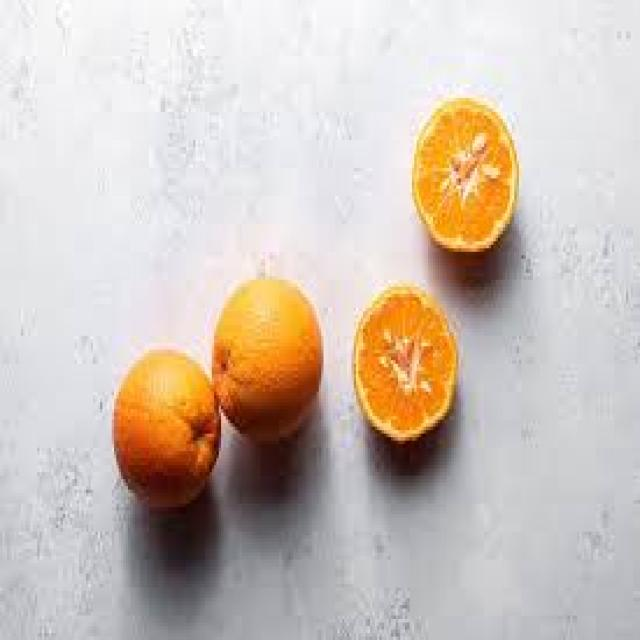orange: (218, 264, 326, 442)
